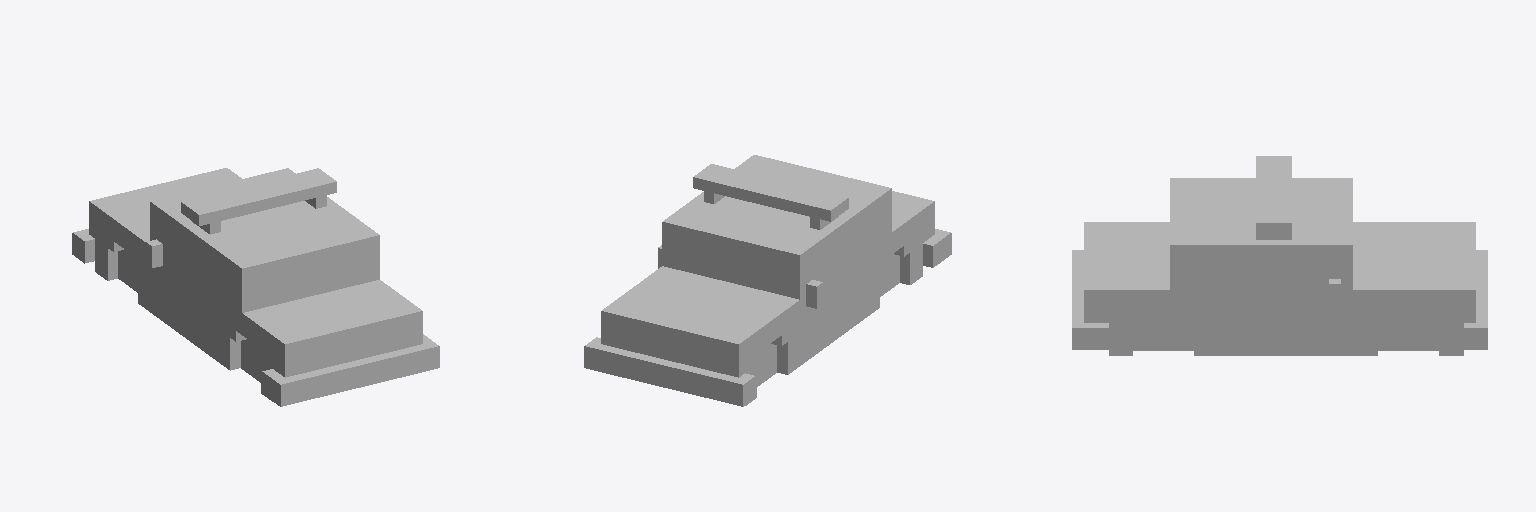
File: AmbulanceBody.obj
3 views of the same model, side by side, from view 1: azimuth 30°, elevation 25°; view 2: azimuth 150°, elevation 25°; view 3: azimuth 270°, elevation 25° (orthographic).
Visible parts, largest first — view 1: object 1; view 2: object 1; view 3: object 1.
Boxes of the visible parts, <box> form: object 1: <box>72,168,439,406</box>; object 1: <box>584,155,951,406</box>; object 1: <box>1072,156,1487,355</box>.
Bounding box in the file's own units: 3 × 2.4 × 6.8.